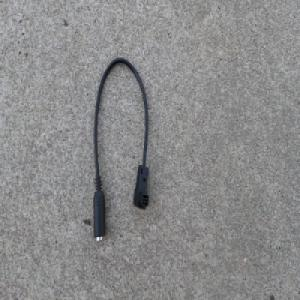Wire: (92, 55, 150, 244)
